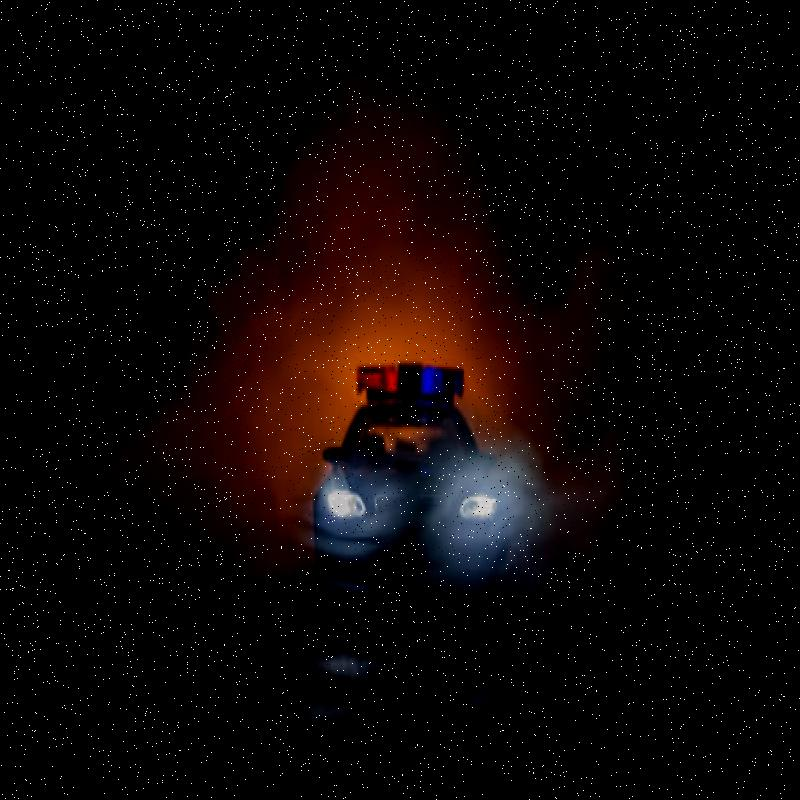AmbulanceSiren: (356, 312, 478, 416)
